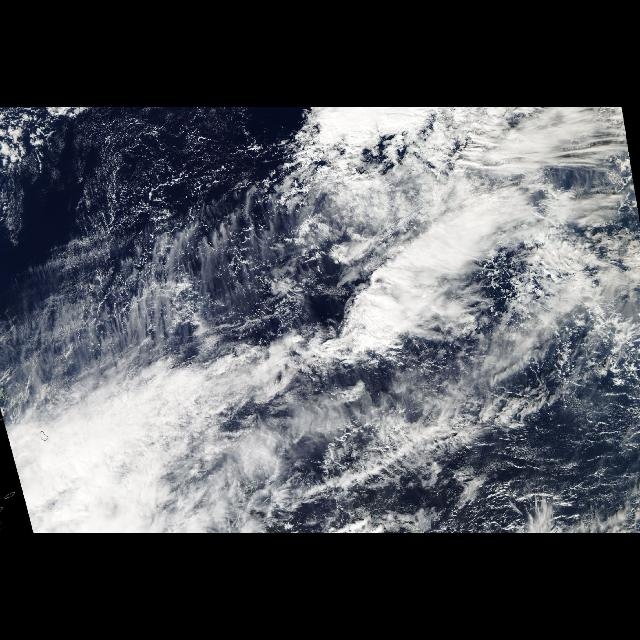Fish: (286, 328, 582, 507)
Gravel: (49, 123, 298, 391)
Sugar: (67, 114, 297, 196)
